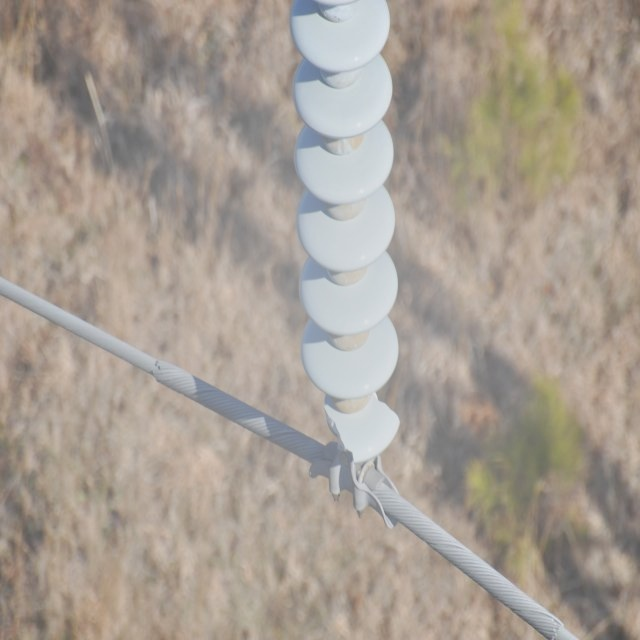broken: (320, 384, 404, 461)
insulator: (290, 0, 402, 467)
